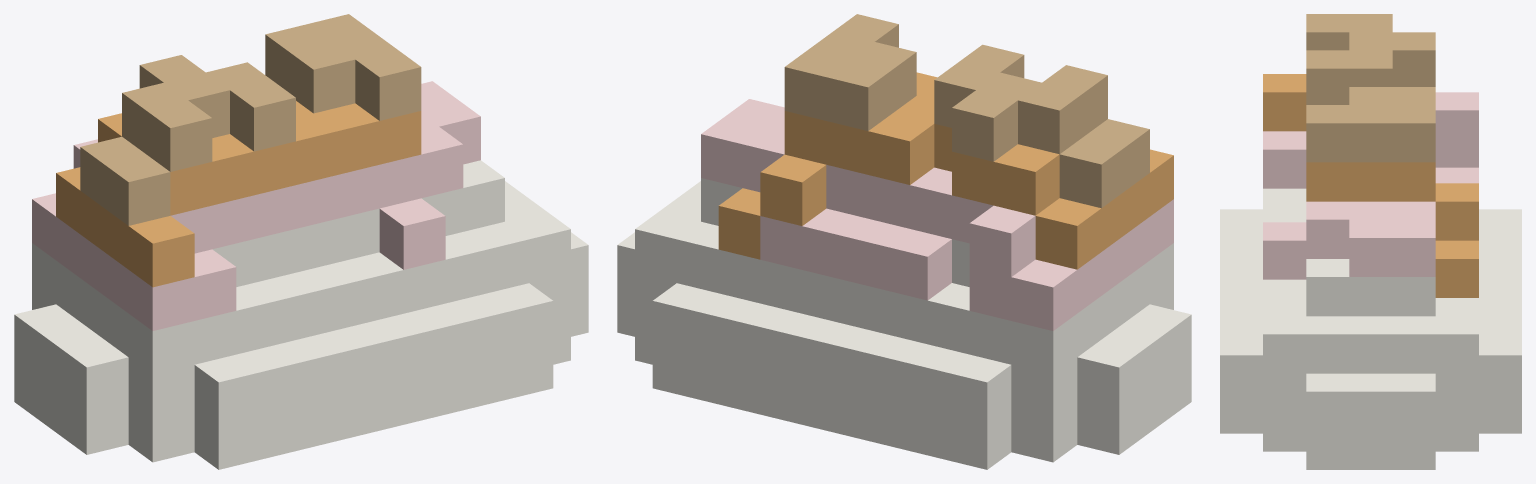
File: comida-3.obj
The picture shows the model from 3 angles, left to right: view 1: azimuth 30°, elevation 25°; view 2: azimuth 150°, elevation 25°; view 3: azimuth 270°, elevation 25°; orthographic projection. The views are drawn at different scales.
Size of the model in its own units: 4.8 by 2.8 by 2.8.
Materials: 1 (1 with a texture image).
